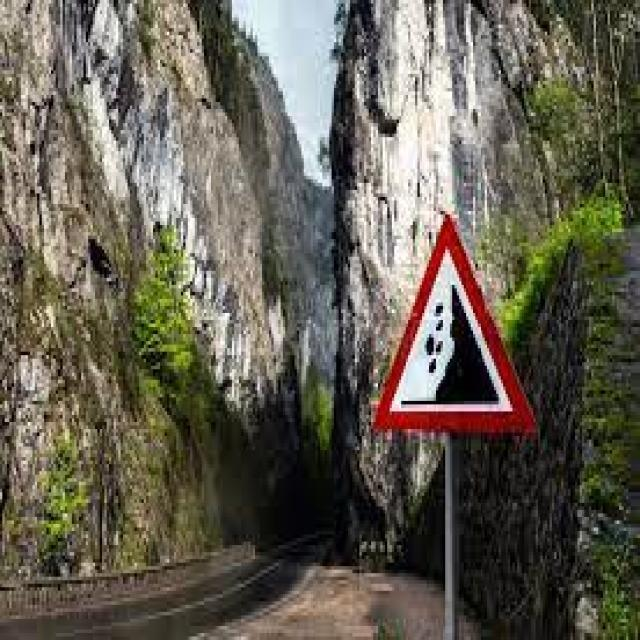falling rocks: (374, 211, 538, 435)
